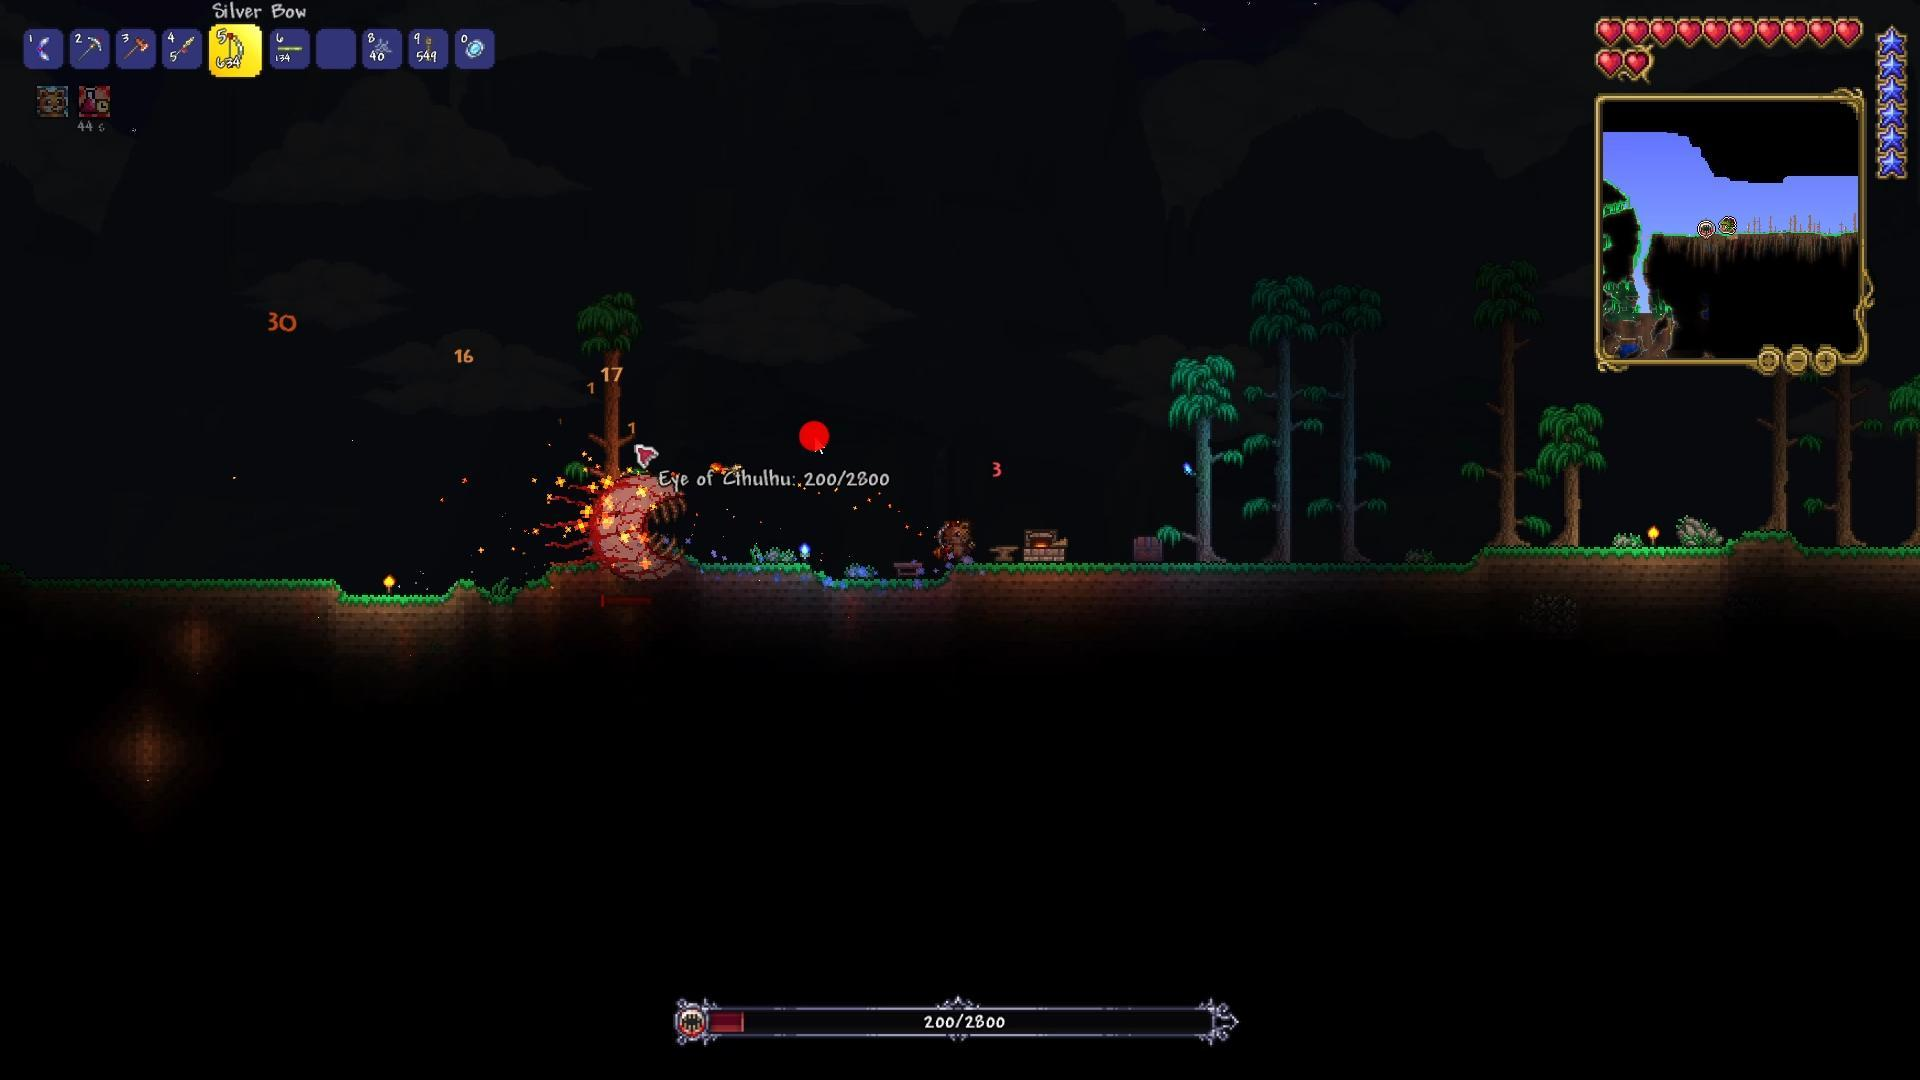dirt: (108, 564, 349, 626), (1470, 542, 1754, 595), (948, 554, 1262, 589), (1743, 525, 1920, 575), (1258, 560, 1486, 596), (345, 572, 475, 625), (795, 575, 945, 609), (715, 551, 804, 592), (465, 575, 546, 612)
